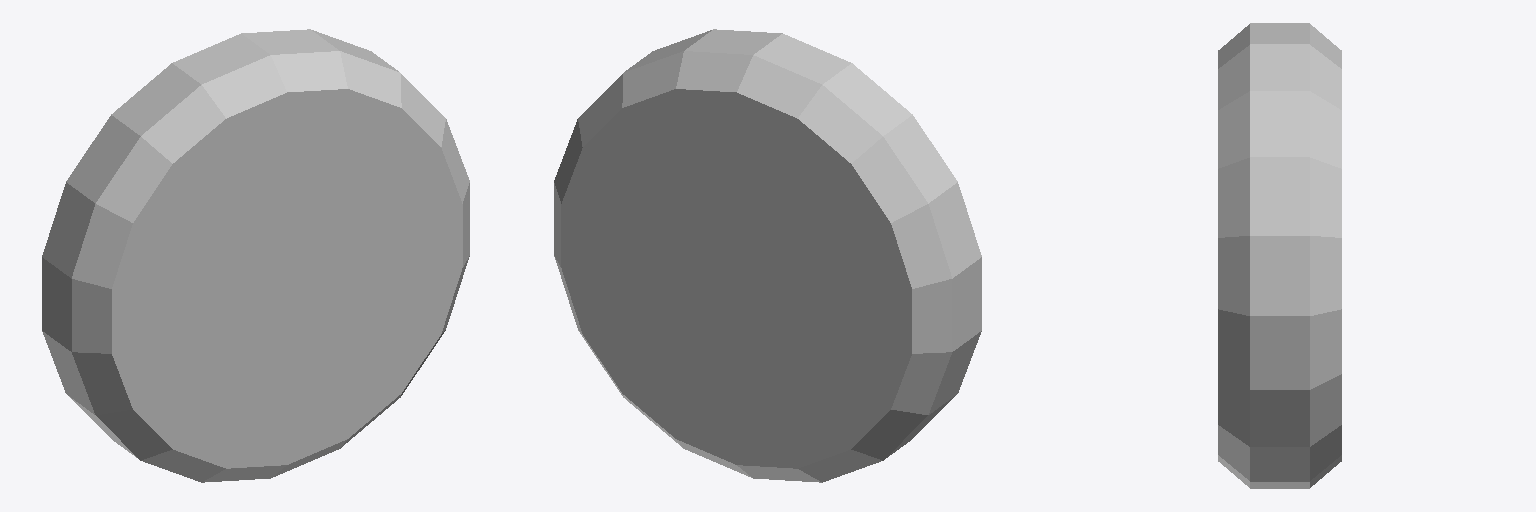
File: lolicircle.obj
3 renders of one model, left to right at view 1: azimuth 30°, elevation 25°; view 2: azimuth 150°, elevation 25°; view 3: azimuth 270°, elevation 25°, orthographic.
Parts seen in each view (by area): view 1: Cylinder.005_Cylinder.006; view 2: Cylinder.005_Cylinder.006; view 3: Cylinder.005_Cylinder.006.
Part boxes in pixels (x1,y1,x2,y2): Cylinder.005_Cylinder.006: (42,29,469,482); Cylinder.005_Cylinder.006: (554,29,981,482); Cylinder.005_Cylinder.006: (1218,23,1341,488).
Size of the model in its own units: 3.94 by 4 by 1.07.